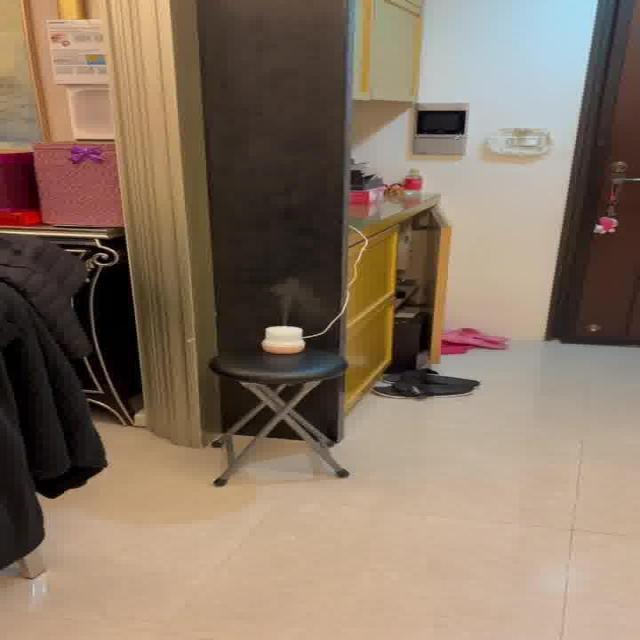fire: (268, 275, 320, 321)
